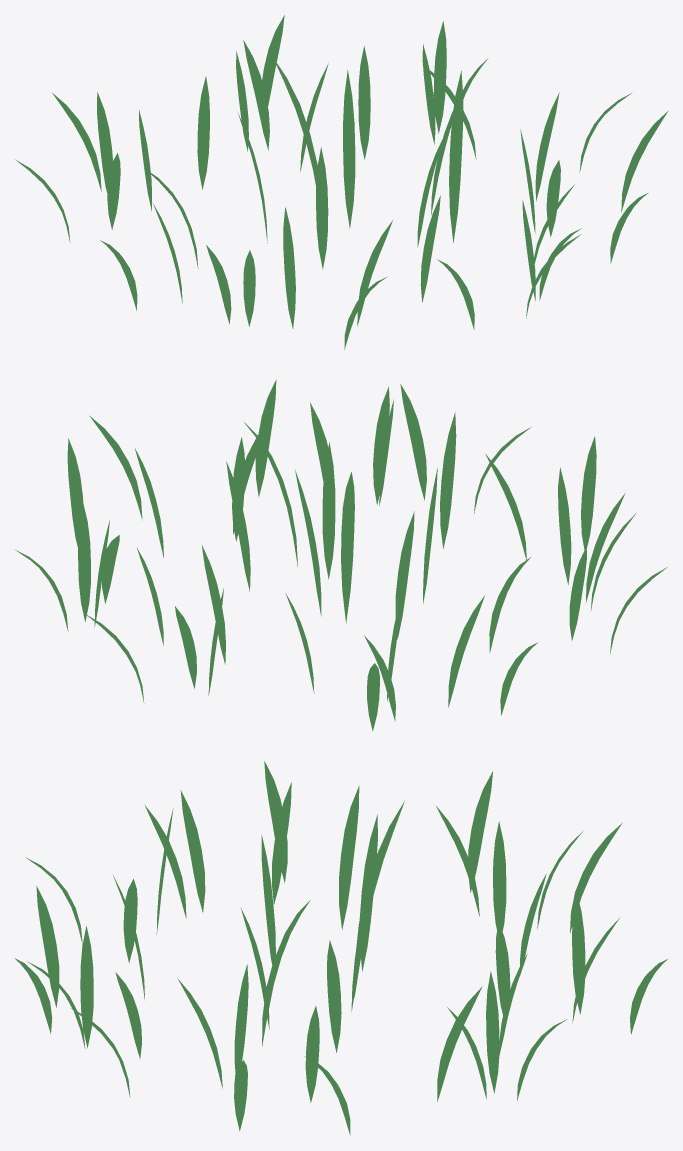
The model's file is grassUnwrapped.fbx.
3 views of the same model, one above another, from view 1: azimuth 30°, elevation 25°; view 2: azimuth 150°, elevation 25°; view 3: azimuth 270°, elevation 25° (orthographic). The views are drawn at different scales.
Visible parts, largest first — view 1: grass; view 2: grass; view 3: grass.
Boxes of the visible parts, x1,y1,x2,y2 form: grass: [15, 15, 667, 349]; grass: [15, 379, 667, 731]; grass: [14, 761, 667, 1135].
Bounding box in the file's own units: 142 × 41.15 × 132.
